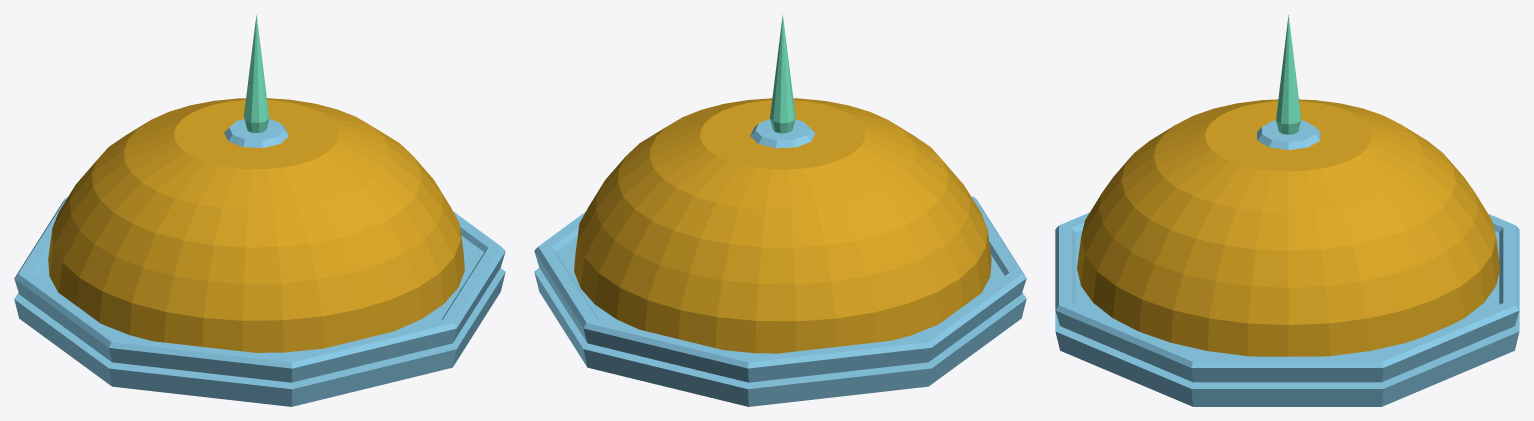
The model's file is Prop_Building_Eastern_Base_Roof_Dome_01.FBX.
3 renders of one model, left to right at view 1: azimuth 30°, elevation 25°; view 2: azimuth 150°, elevation 25°; view 3: azimuth 270°, elevation 25°, orthographic.
Visible parts, largest first — view 1: Prop_Building_Eastern_Base_Roof_Dome_01; view 2: Prop_Building_Eastern_Base_Roof_Dome_01; view 3: Prop_Building_Eastern_Base_Roof_Dome_01.
Boxes of the visible parts, x1,y1,x2,y2 form: Prop_Building_Eastern_Base_Roof_Dome_01: (14,15,505,406); Prop_Building_Eastern_Base_Roof_Dome_01: (534,14,1026,406); Prop_Building_Eastern_Base_Roof_Dome_01: (1055,15,1519,406).
Size of the model in its own units: 8107 by 5694 by 8107.
